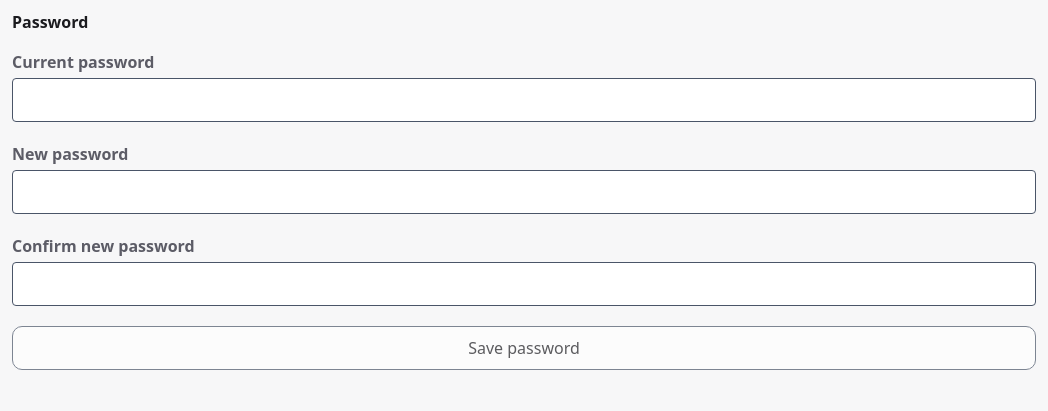
Scenario: AccountPasswordForm — an account with a password › marks no field invalid when the refusal is about neither password
In the password field labelled "Current password": (524, 100) [12,78,1036,122], type "OldPassw0rd"
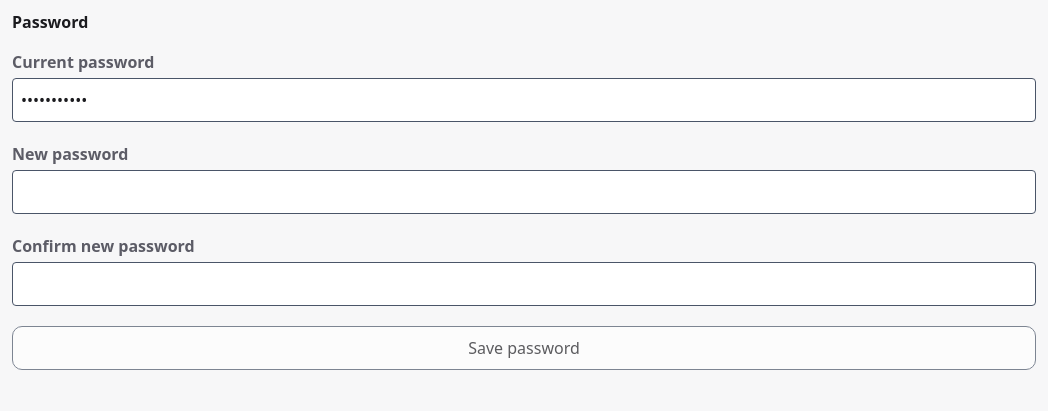
In the password field labelled "New password": (524, 192) [12,170,1036,214], type "NewPassw0rd"
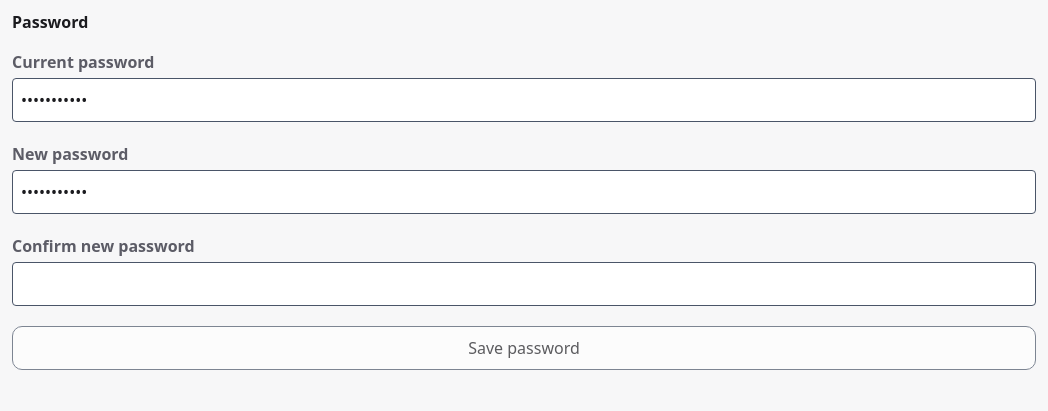
In the password field labelled "Confirm new password": (524, 284) [12,262,1036,306], type "NewPassw0rd"
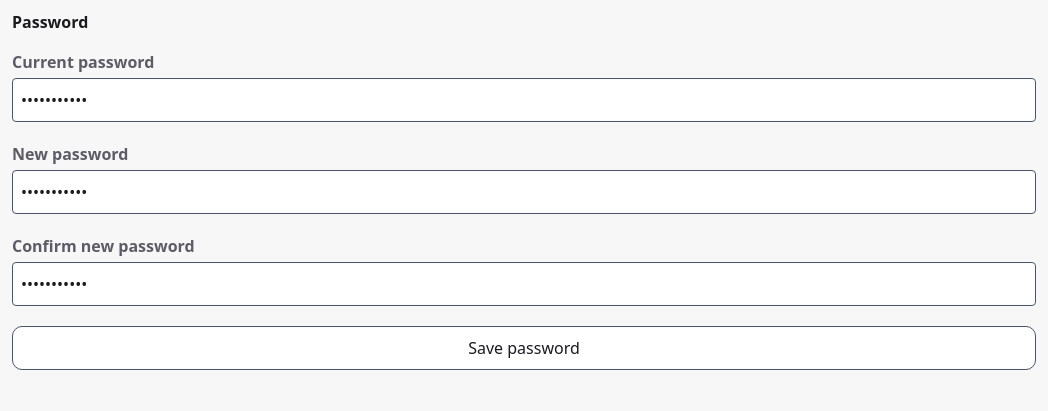
Click the button "Save password": (524, 348) [12,326,1036,370]
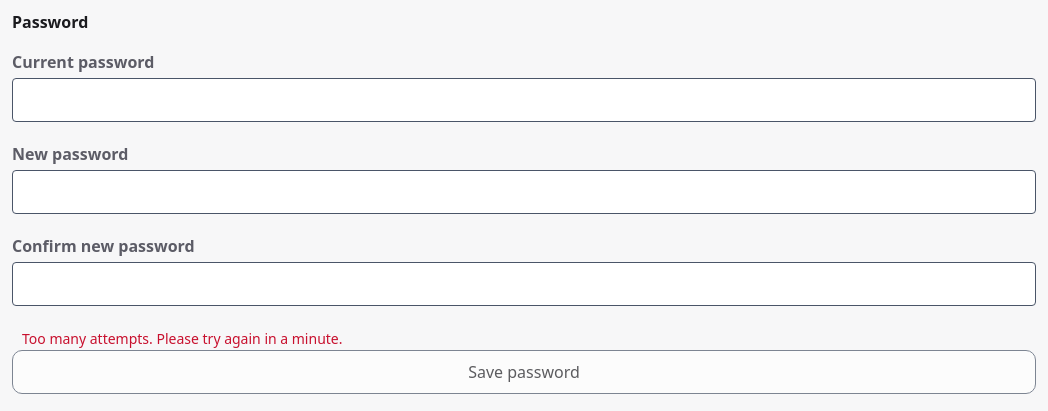
expect the text "Too many attempts. Please try again in a minute." is shown: met, box [12,329,342,348]
